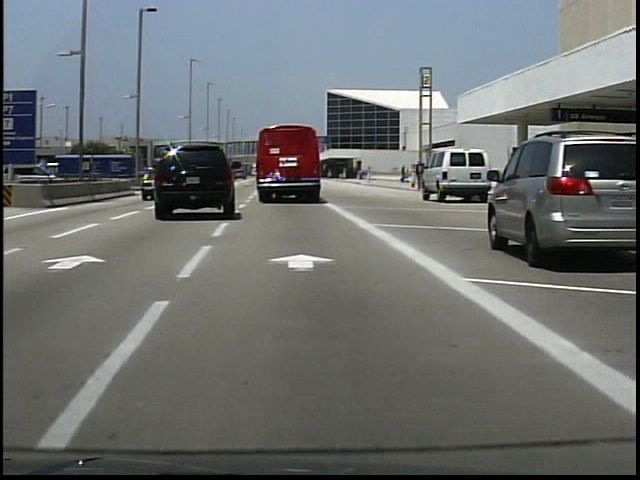person: (414, 160, 425, 193)
